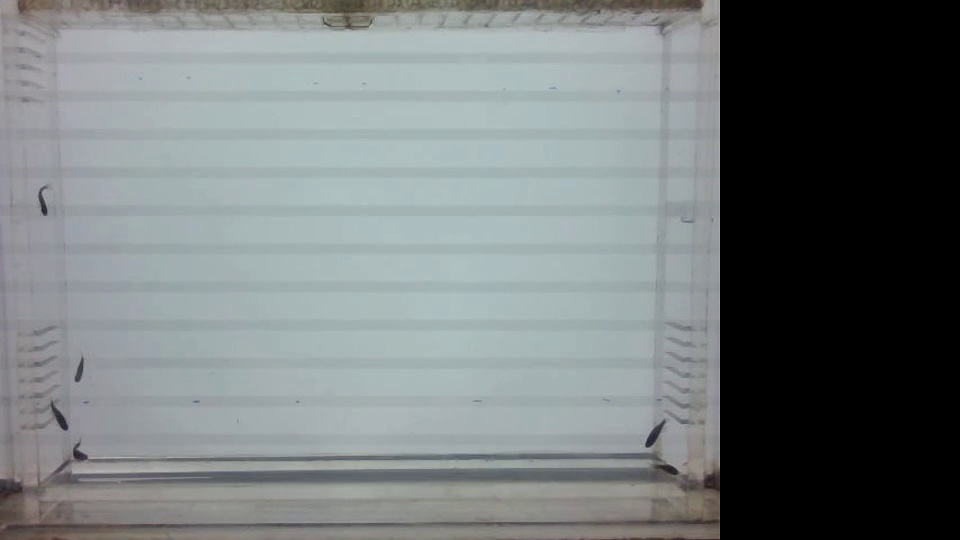fish: (637, 414, 668, 448), (28, 181, 52, 224), (64, 349, 90, 388), (649, 456, 680, 482), (44, 400, 69, 432), (65, 437, 93, 463)
